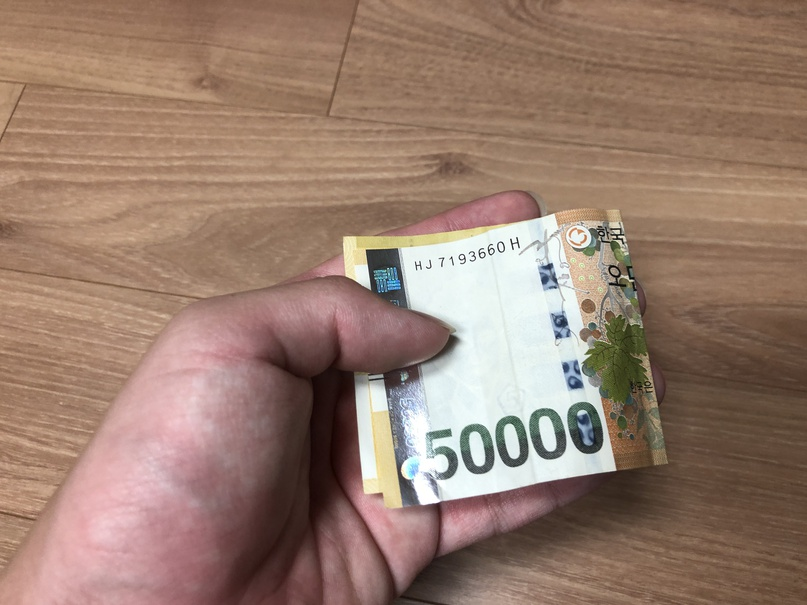50000won: (344, 206, 668, 510)
